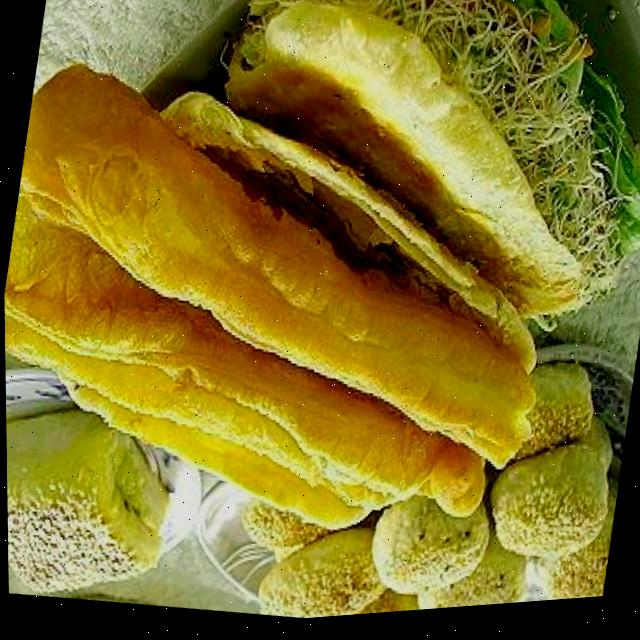炸货点心: (1, 72, 589, 607)
